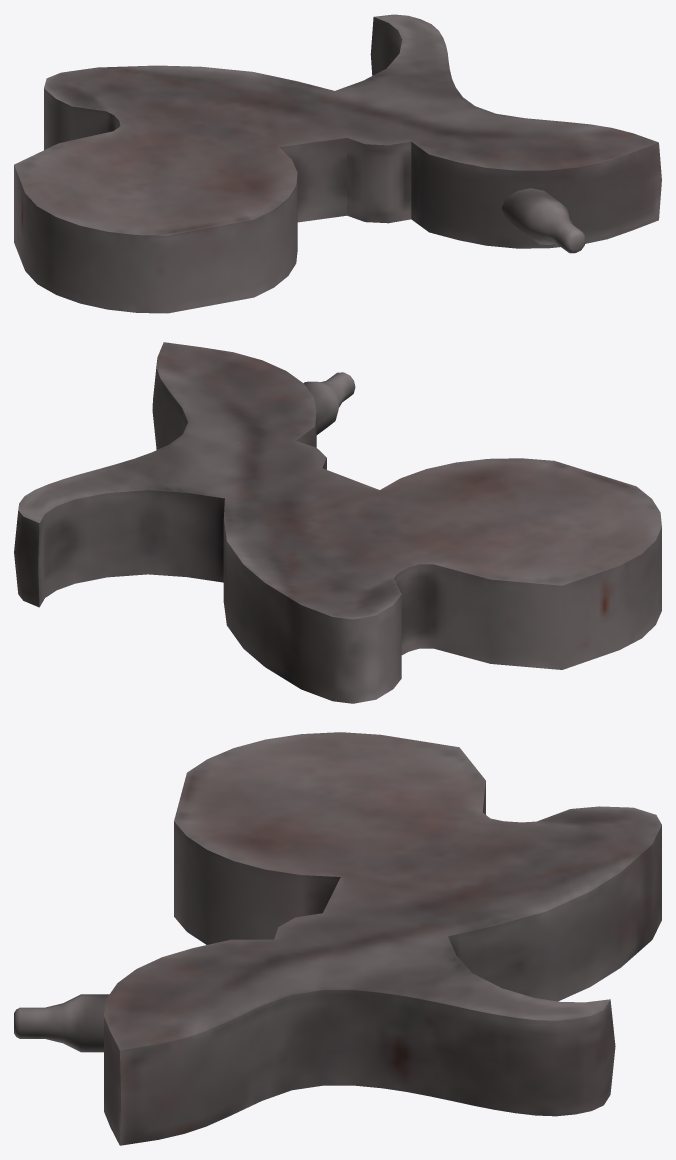
File: SM_Brimstone_01b.fbx
The picture shows the model from 3 angles, top to bottom: view 1: azimuth 30°, elevation 25°; view 2: azimuth 150°, elevation 25°; view 3: azimuth 270°, elevation 25°; orthographic projection. The views are drawn at different scales.
Parts seen in each view (by area): view 1: SM_Brimstone_01b_LOD0; view 2: SM_Brimstone_01b_LOD0; view 3: SM_Brimstone_01b_LOD0.
Part boxes in pixels (x1,y1,x2,y2): SM_Brimstone_01b_LOD0: [14, 14, 661, 313]; SM_Brimstone_01b_LOD0: [14, 342, 661, 703]; SM_Brimstone_01b_LOD0: [14, 732, 661, 1145].
Bounding box in the file's own units: 5.68 × 4.85 × 0.789.
